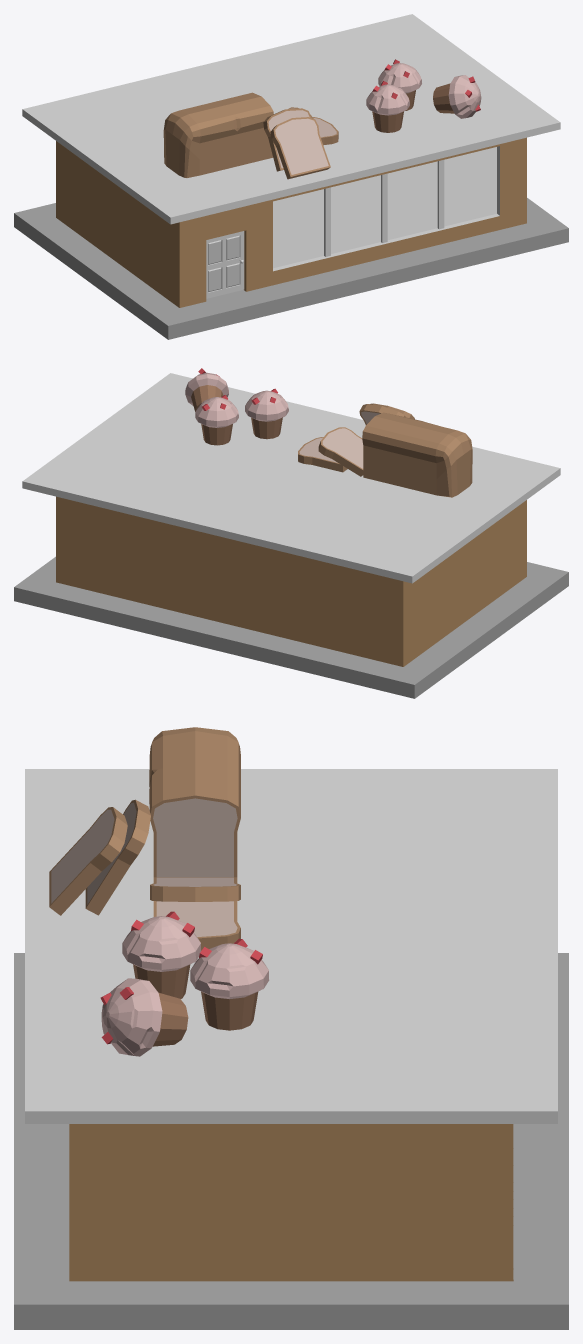
The model's file is Shoppe_Bread.fbx.
3 renders of one model, top to bottom at view 1: azimuth 30°, elevation 25°; view 2: azimuth 150°, elevation 25°; view 3: azimuth 270°, elevation 25°, orthographic. The views are drawn at different scales.
Parts seen in each view (by area): view 1: Mesh5 Plane1 skp30C1_1 Model.000; view 2: Mesh5 Plane1 skp30C1_1 Model.000; view 3: Mesh5 Plane1 skp30C1_1 Model.000.
Boxes of the visible parts, x1,y1,x2,y2 form: Mesh5 Plane1 skp30C1_1 Model.000: (14,14,568,339); Mesh5 Plane1 skp30C1_1 Model.000: (14,368,568,698); Mesh5 Plane1 skp30C1_1 Model.000: (14,727,568,1329).
Size of the model in its own units: 1500 by 614 by 1000.
